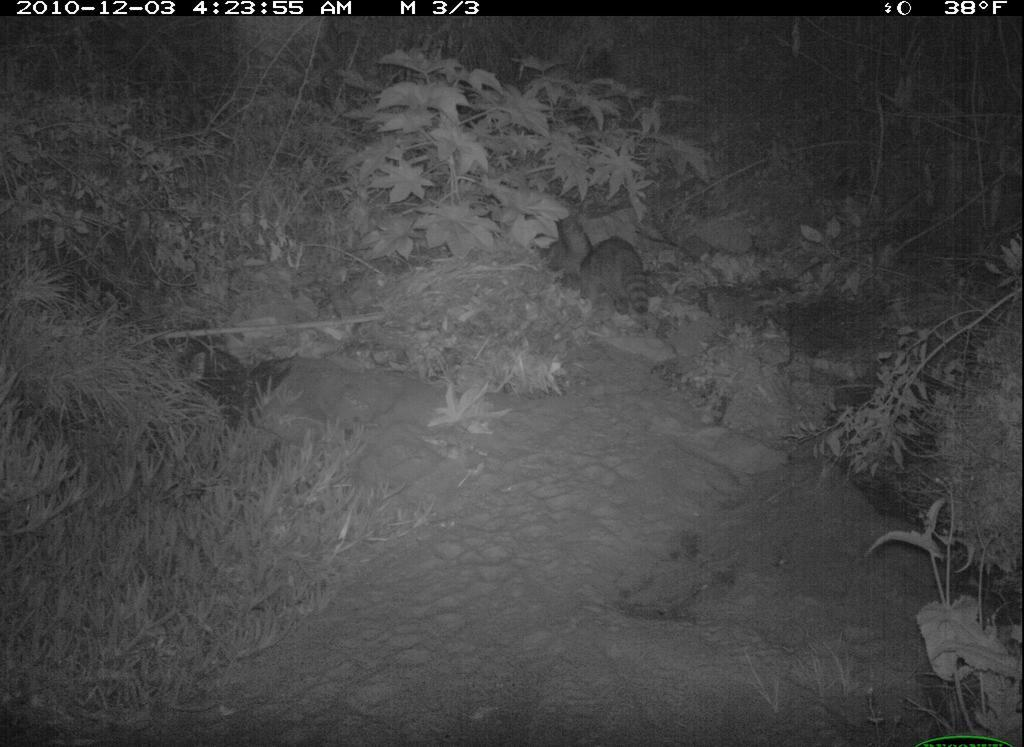raccoon: (566, 222, 664, 324)
